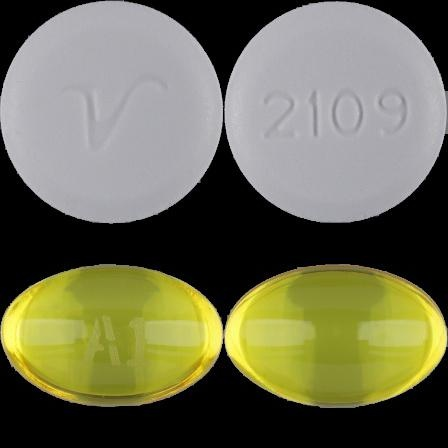35356-858: (0, 0, 224, 224)
